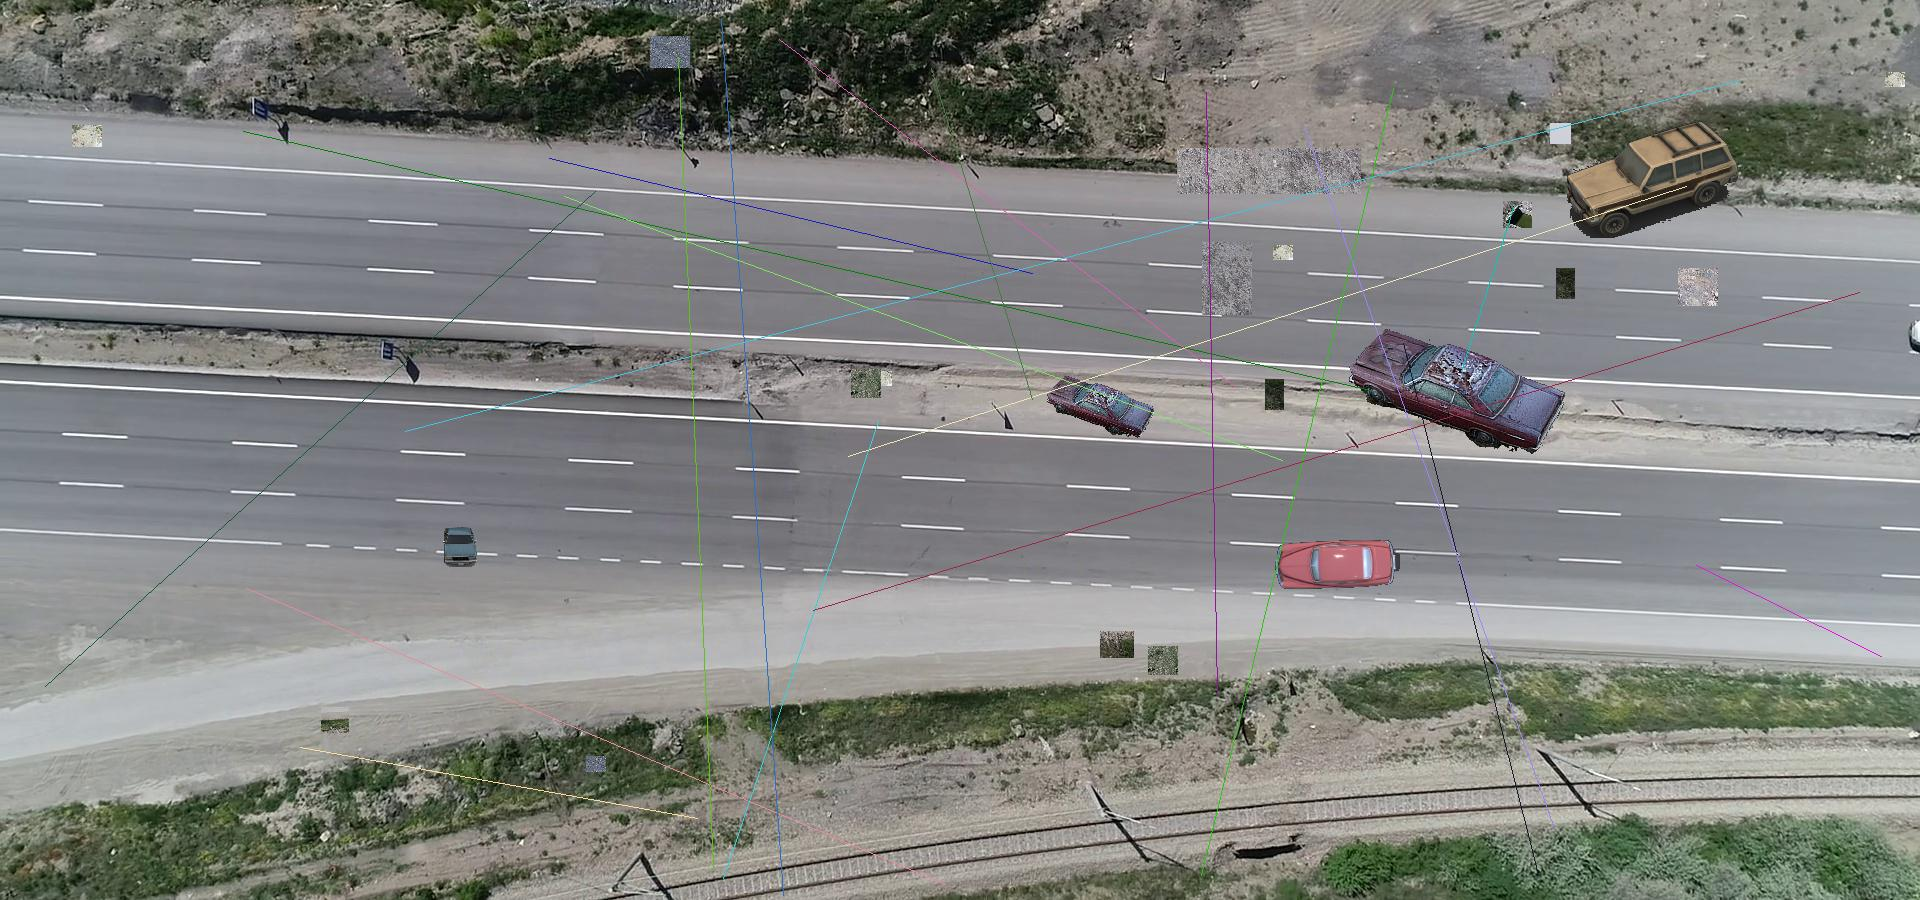arac: (1347, 322, 1569, 454), (1567, 118, 1739, 238), (1046, 372, 1156, 438), (1275, 540, 1404, 590), (440, 527, 478, 567)
